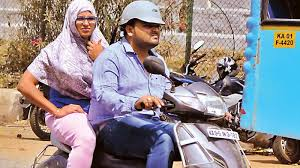helmet: (116, 1, 166, 48)
